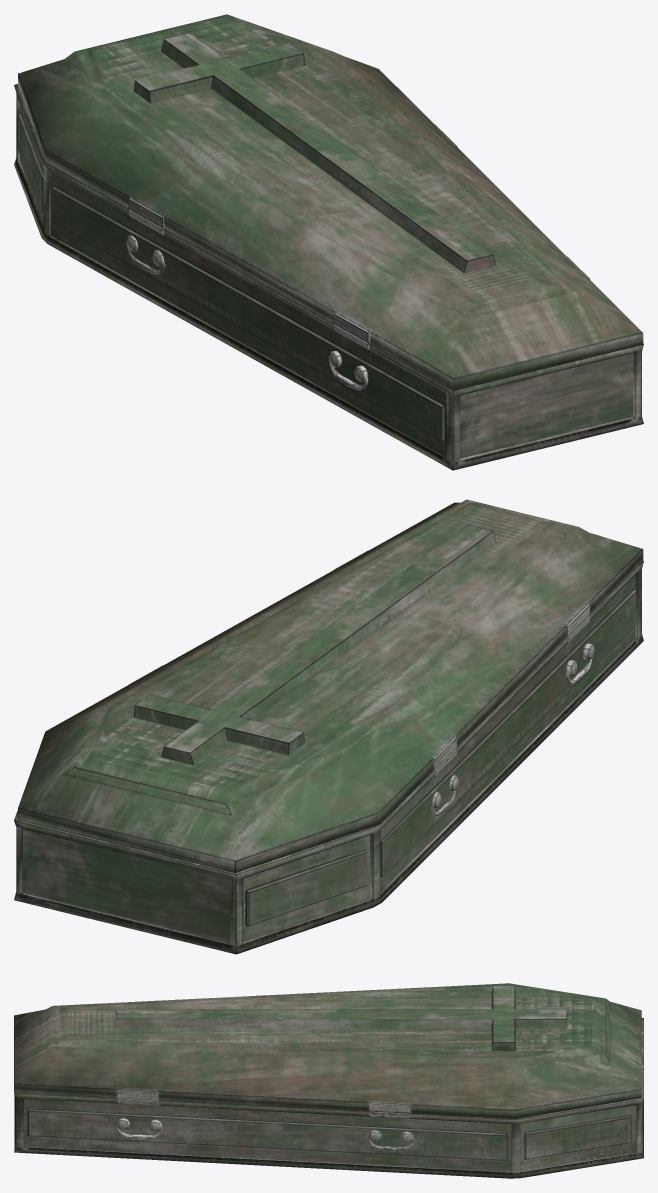
The model's file is coffin.glb.
3 renders of one model, top to bottom at view 1: azimuth 30°, elevation 25°; view 2: azimuth 150°, elevation 25°; view 3: azimuth 270°, elevation 25°, orthographic. The views are drawn at different scales.
Parts seen in each view (by area): view 1: coffin_top, coffin_bottom; view 2: coffin_top, coffin_bottom; view 3: coffin_top, coffin_bottom.
Part boxes in pixels (x1,y1,x2,y2): coffin_top: (18,14,643,390); coffin_bottom: (14,84,643,470); coffin_top: (18,499,643,872); coffin_bottom: (14,561,643,954); coffin_top: (14,983,641,1118); coffin_bottom: (14,1018,643,1178).
Size of the model in its own units: 308 by 123 by 675.
1 material, 1 textured.
